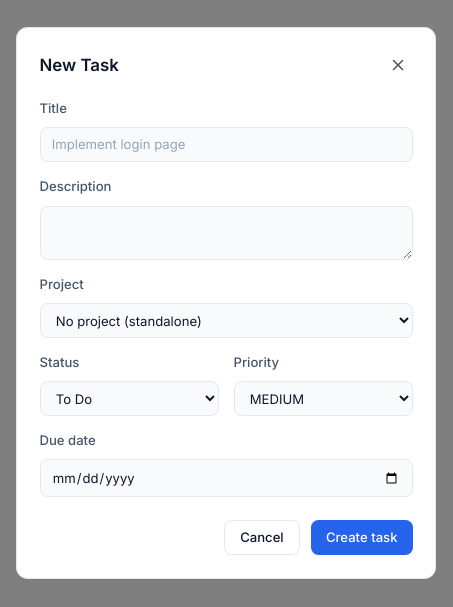
Test: TaskFormModal › blocks submission when the title is empty
Click the button "Create task" at (362, 538), box [311,520,412,556]
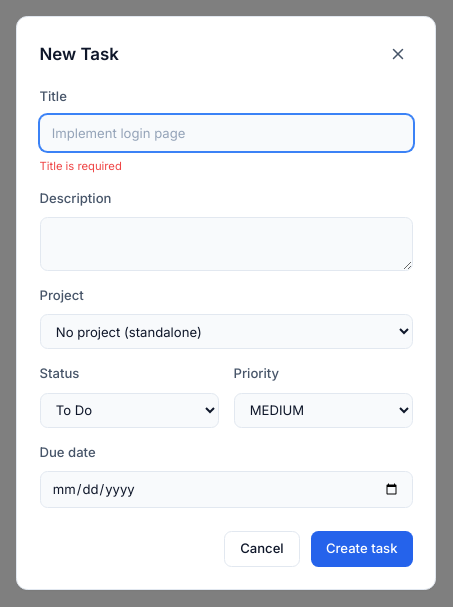
Check: the text "Title is required" is shown, box [40,159,122,173]
